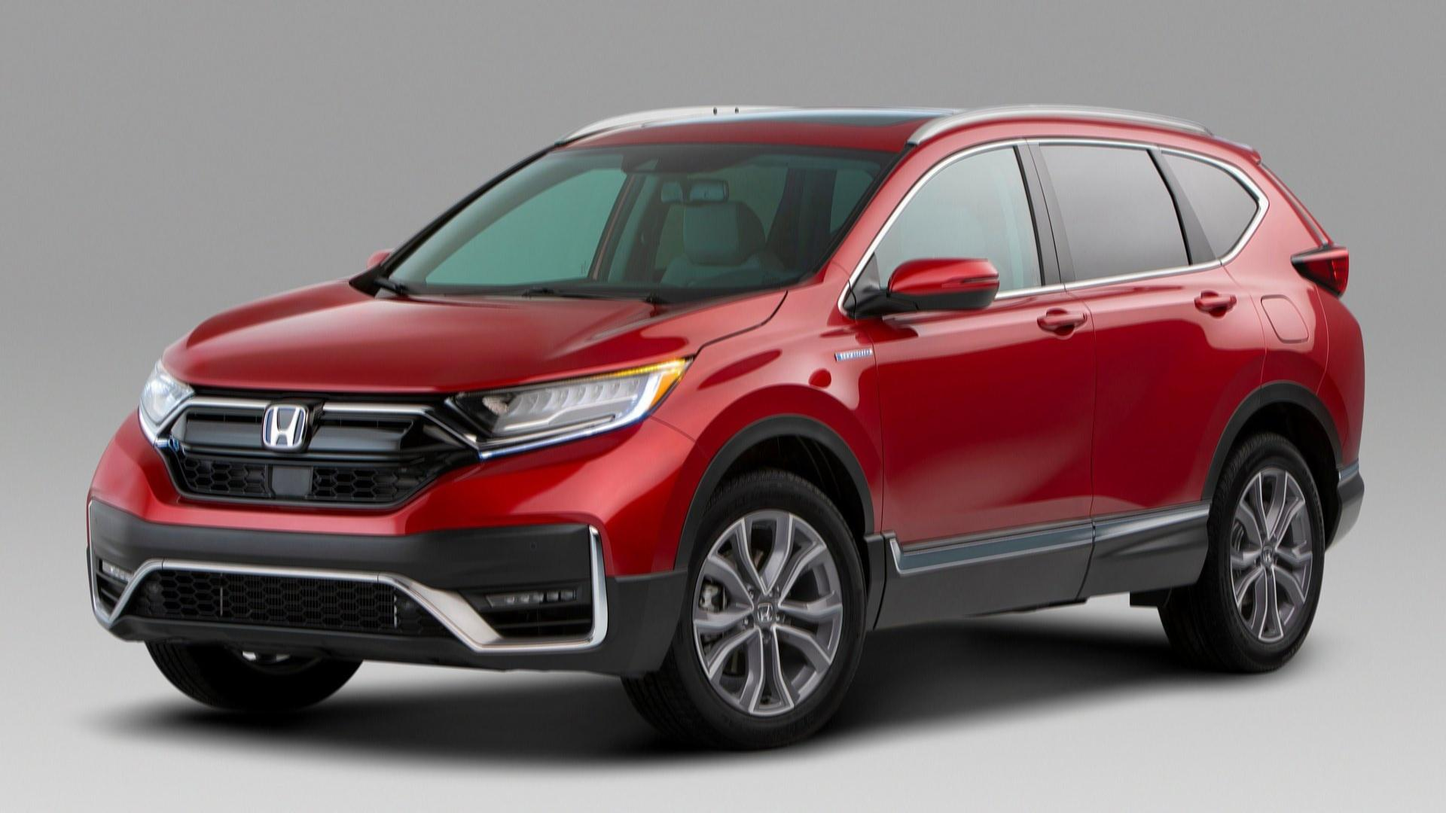Car hood: (155, 279, 792, 397)
Fender - -F-L-: (650, 258, 891, 651)
Front bumper: (76, 418, 703, 689)
Headlight - -L-: (432, 345, 703, 468)
Headlight - -R-: (128, 339, 209, 455)
